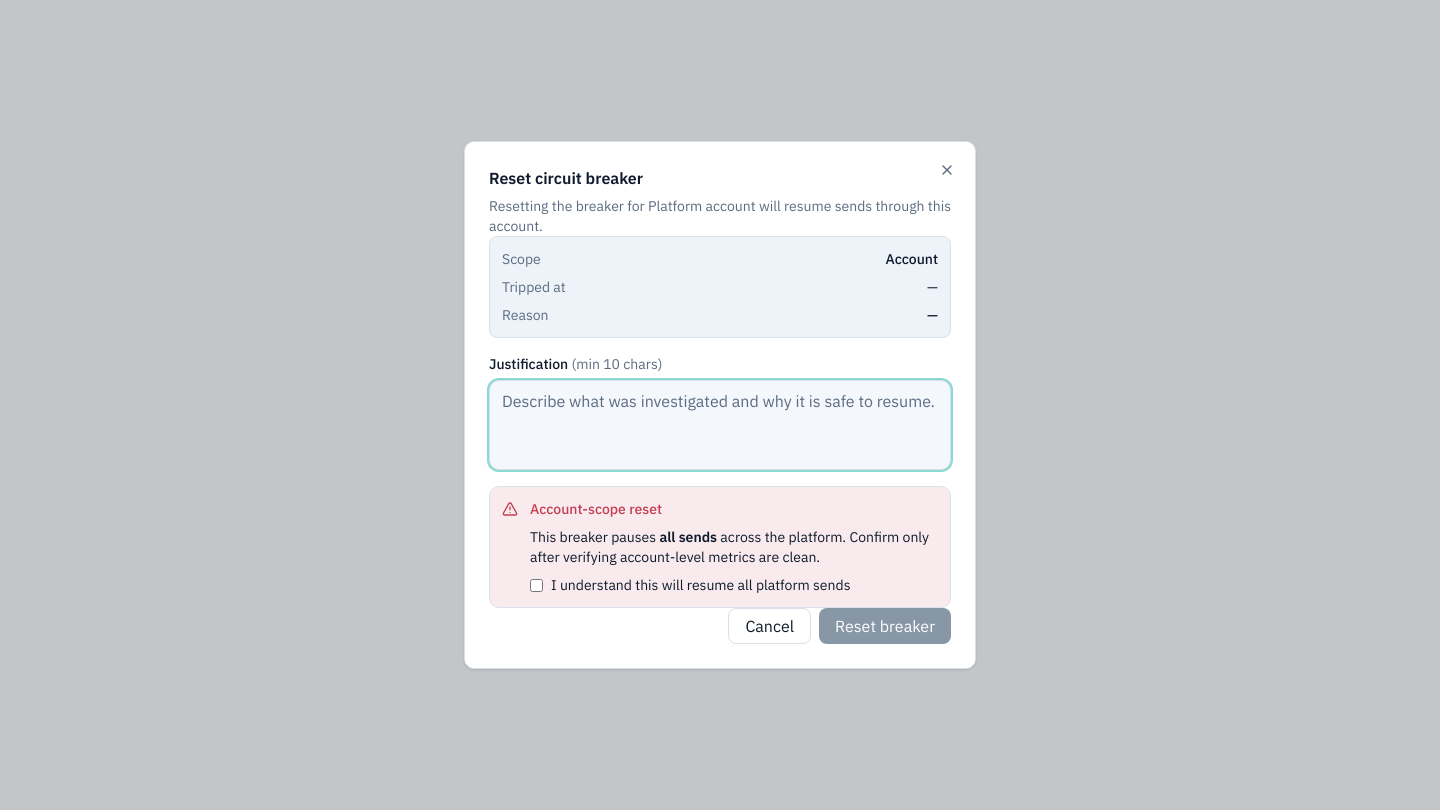
Test: ResetDialog › account reset enables after checking box
This screenshot has width=1440, height=810.
Step 1. Type "Account metrics verified clean and within thresholds." into the text box labelled "Justification (min 10 chars)" → (720, 425), box [489,380,951,470]
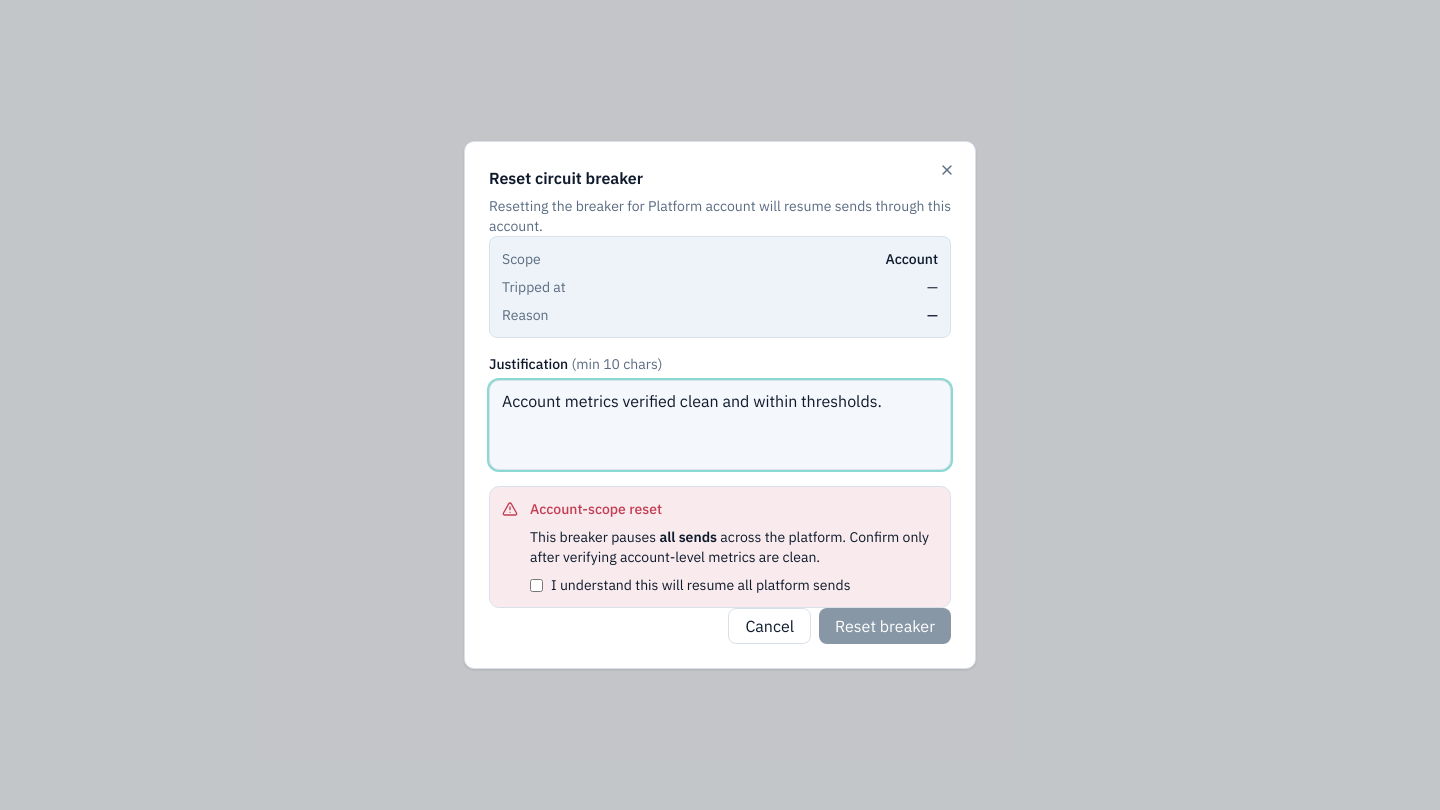
Step 2. Click the checkbox named "I understand this affects all sends" → (536, 585), box [530,578,543,592]
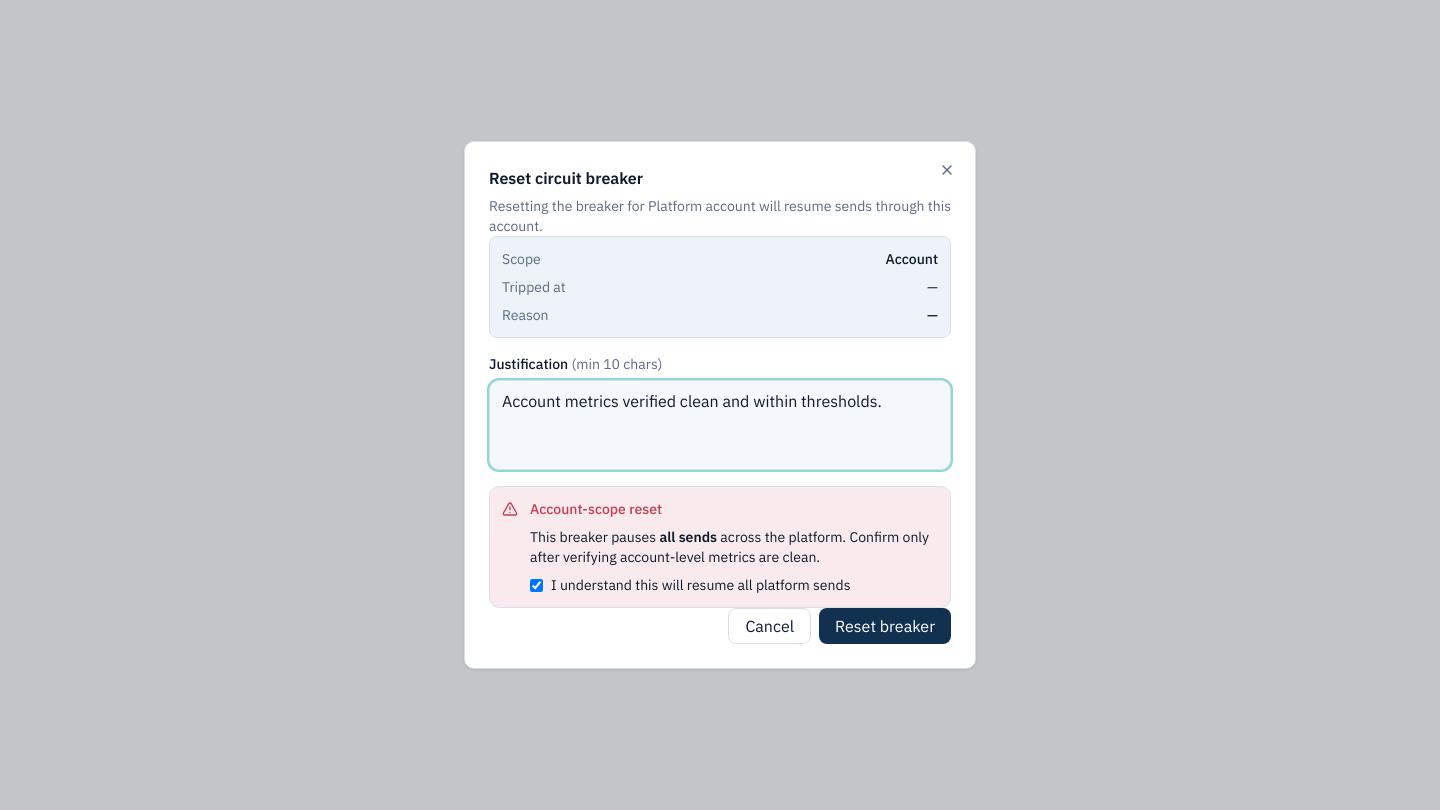
Check: the button "Reset breaker" is enabled, box [819,608,951,644]
